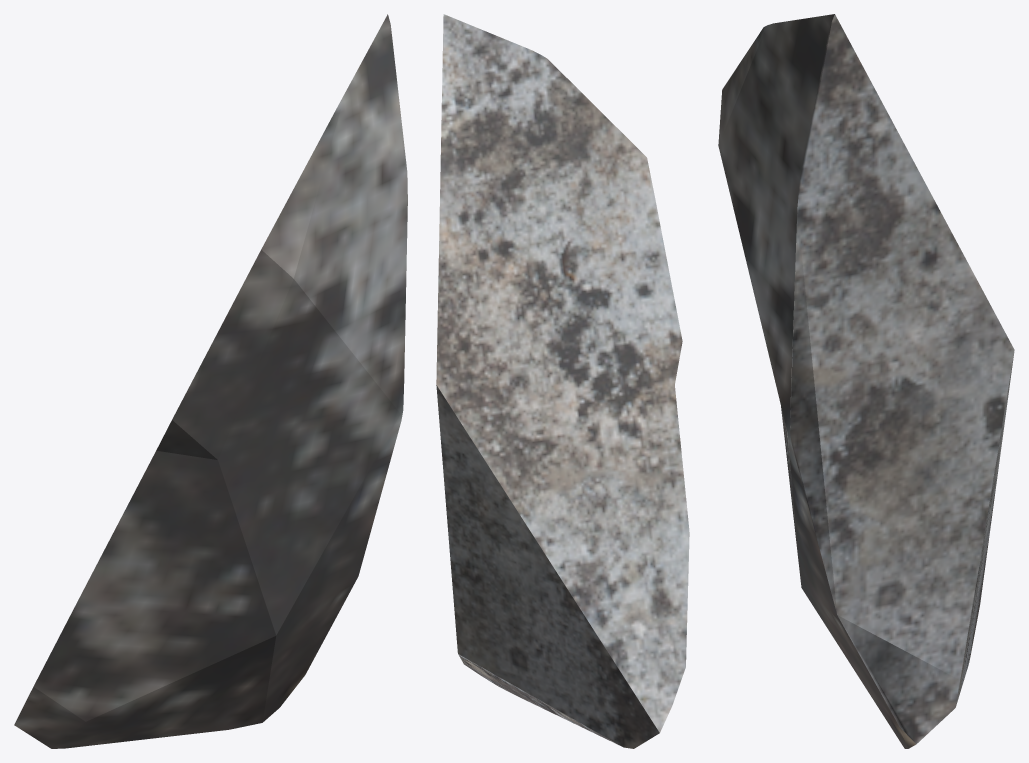
The model's file is Asteroid_Medium_001_02_004_03_003.fbx.
3 renders of one model, left to right at view 1: azimuth 30°, elevation 25°; view 2: azimuth 150°, elevation 25°; view 3: azimuth 270°, elevation 25°, orthographic. The views are drawn at different scales.
Visible parts, largest first — view 1: Asteroid_Medium_001_02_004_03_003; view 2: Asteroid_Medium_001_02_004_03_003; view 3: Asteroid_Medium_001_02_004_03_003.
Part boxes in pixels (x1,y1,x2,y2): Asteroid_Medium_001_02_004_03_003: (14, 14, 407, 748); Asteroid_Medium_001_02_004_03_003: (436, 14, 689, 748); Asteroid_Medium_001_02_004_03_003: (718, 14, 1014, 748).
Size of the model in its own units: 5.99 by 12.91 by 4.38.
